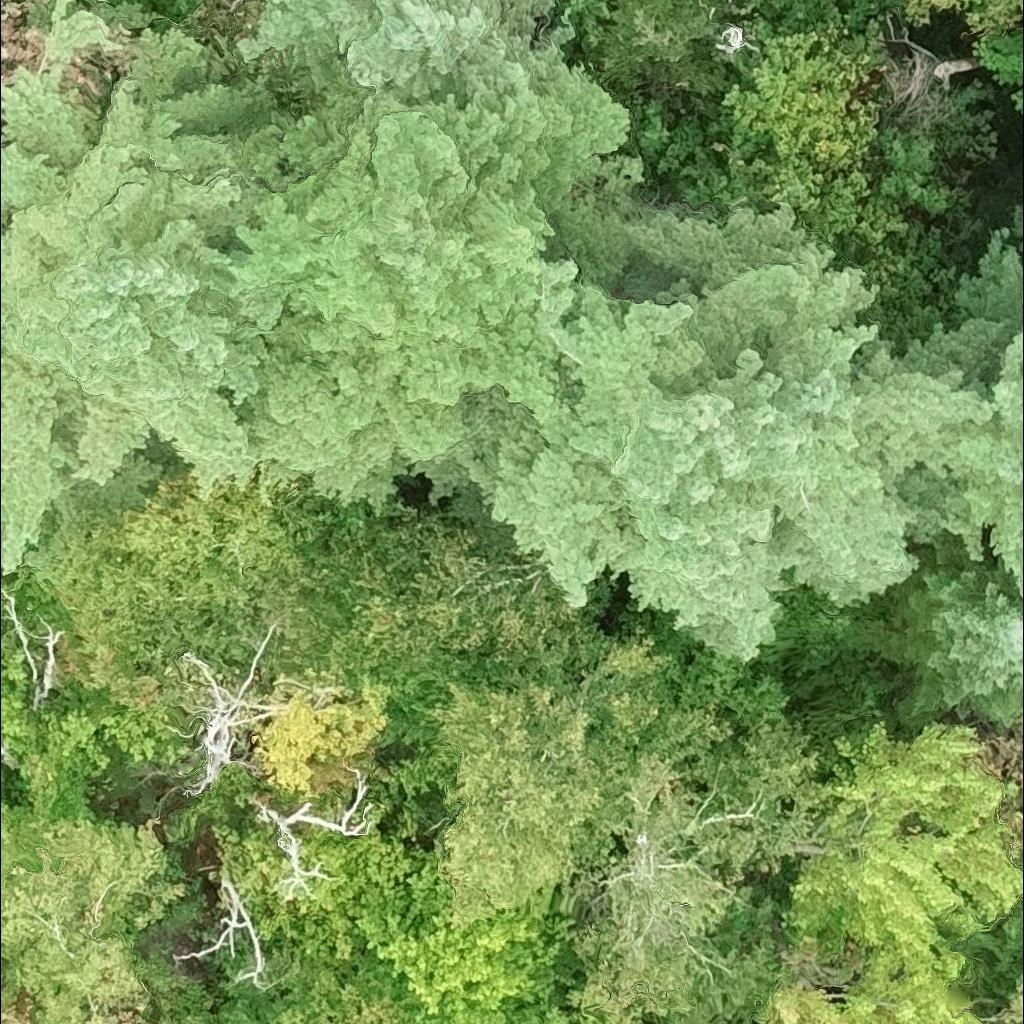crown: (456, 143, 1009, 664), (223, 61, 636, 519), (0, 0, 274, 585), (392, 599, 736, 928), (567, 718, 833, 1023), (307, 483, 613, 699), (778, 718, 1023, 975), (56, 466, 318, 680), (905, 199, 1023, 600), (357, 850, 600, 1023), (235, 0, 578, 110), (0, 820, 183, 1023), (871, 527, 1023, 734), (668, 140, 911, 248), (720, 27, 882, 181), (767, 948, 979, 1023), (899, 0, 1023, 37), (967, 32, 1023, 110), (0, 0, 41, 90), (978, 973, 1023, 1023), (544, 1007, 585, 1023), (667, 0, 697, 12), (0, 1012, 32, 1023), (643, 1019, 678, 1023), (698, 0, 726, 4)
